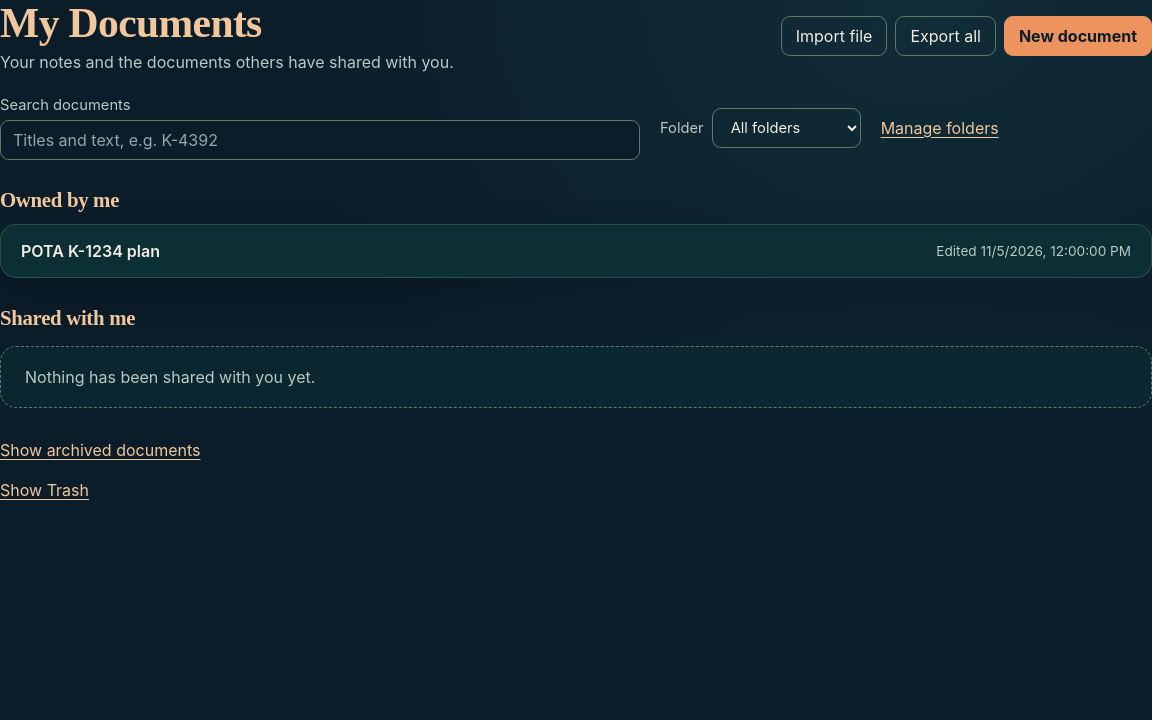
Test: Trash › lists deleted documents and restores or deletes them forever
Click the button "Show Trash" at [44, 490], box [0, 476, 89, 504]
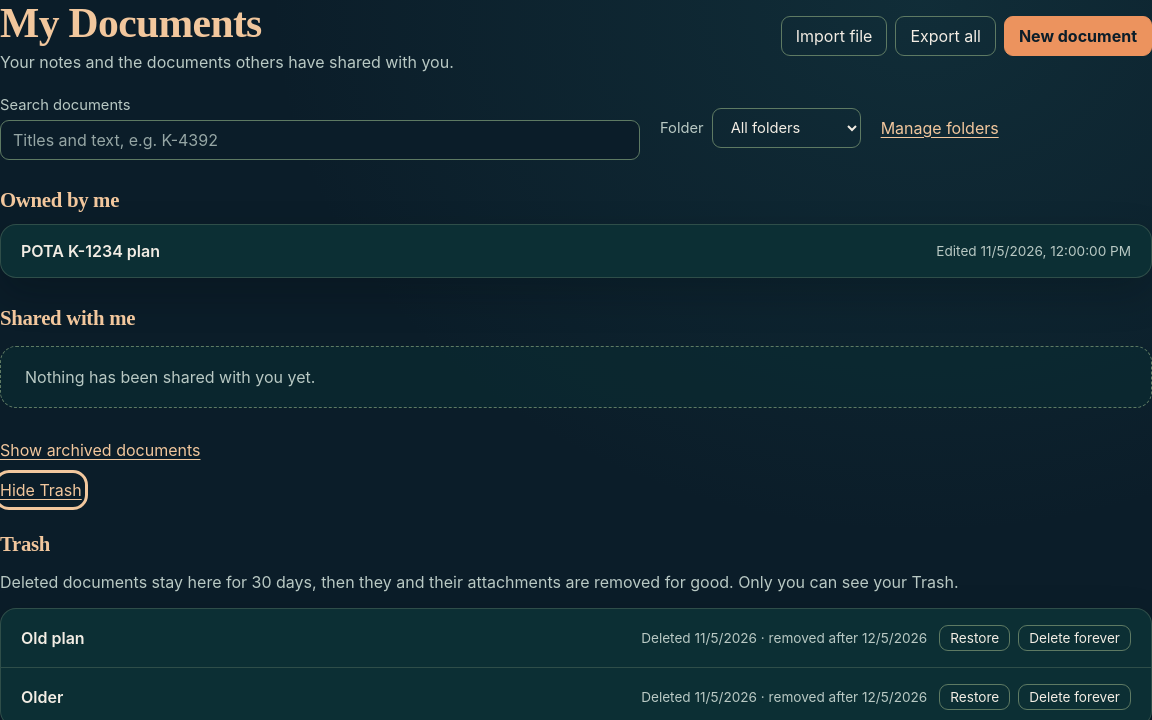
Expected: the text "stay here for 30 days" is shown, [0, 572, 958, 592]
Expected: the text "Deleted 11/5/2026 · removed after 12/5/2026" is shown 2 times, [641, 630, 927, 646]; [641, 689, 927, 705]
Click the button with aria-label "Restore Old plan" at [975, 638], box [939, 625, 1010, 651]
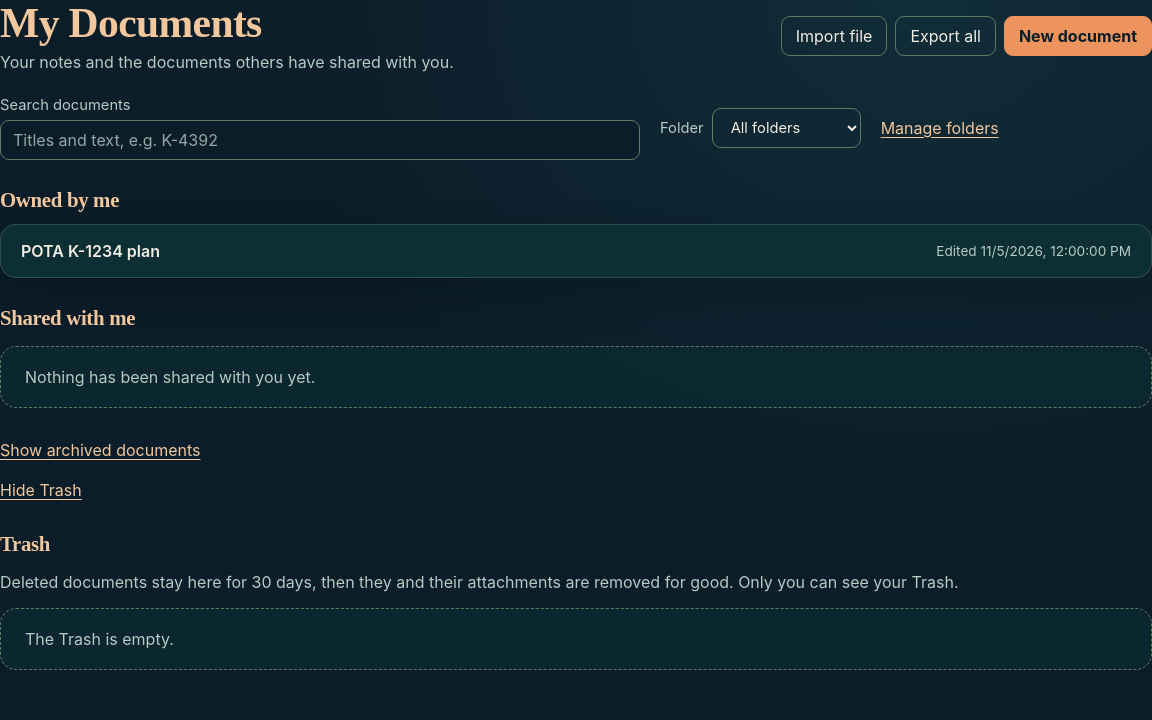
Expected: the text "The Trash is empty." is shown, [0, 608, 1151, 670]
